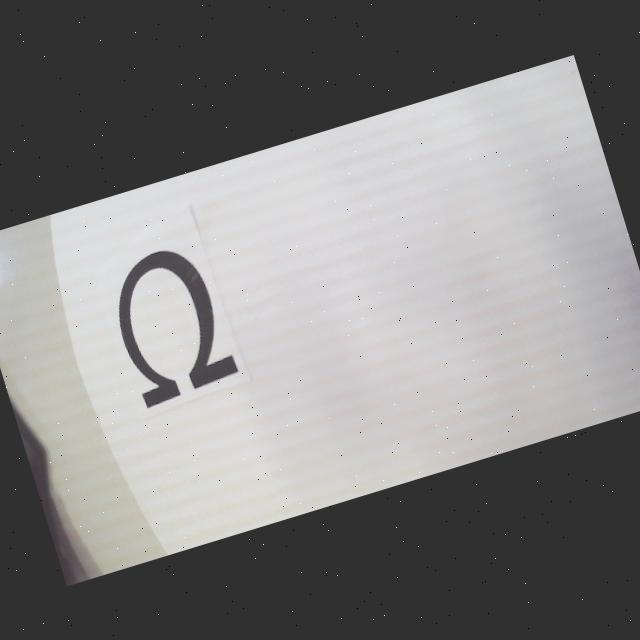OMEGA: (100, 239, 240, 409)
